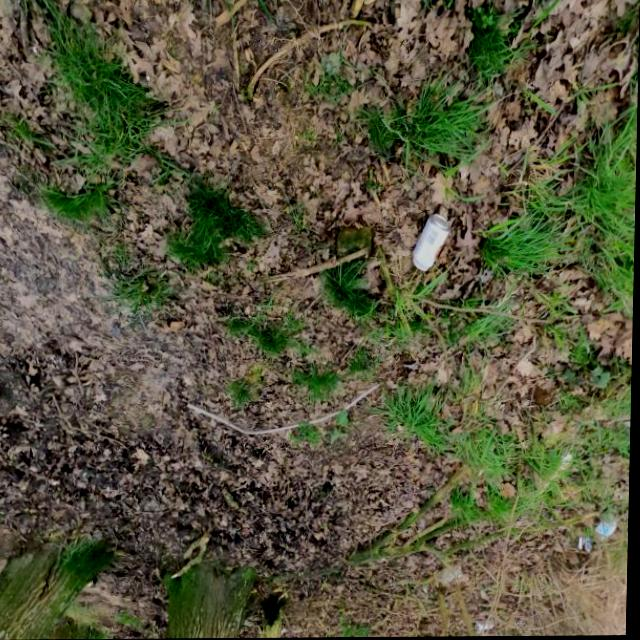Can-Metal: (413, 213, 452, 275), (479, 623, 497, 633)
Mask: (598, 521, 621, 538)
